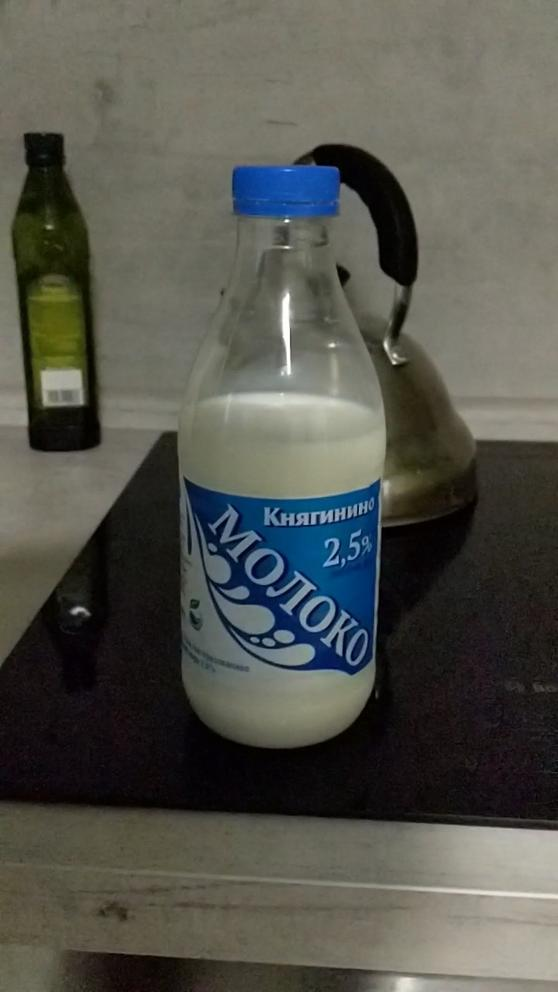milk: (163, 150, 414, 761)
